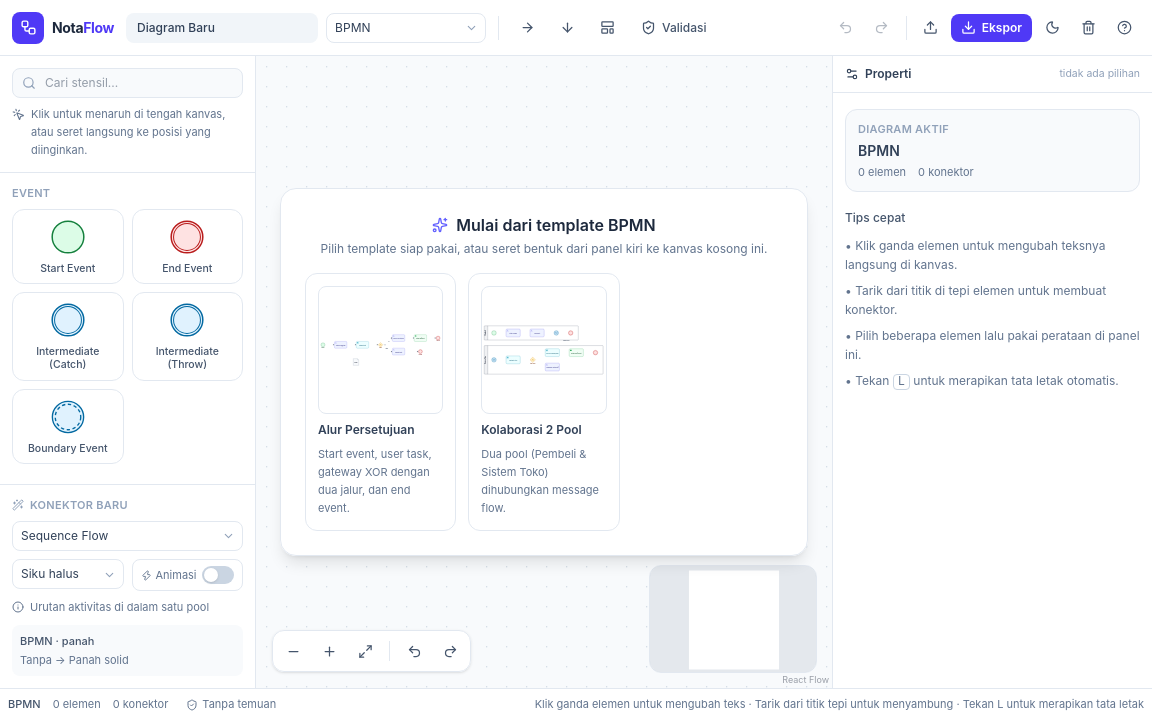
Test: aplikasi Nota Flow › membuka dialog panduan
Click the button titled "Panduan & pintasan". click: x=1124, y=28
box: [1108, 12, 1140, 44]
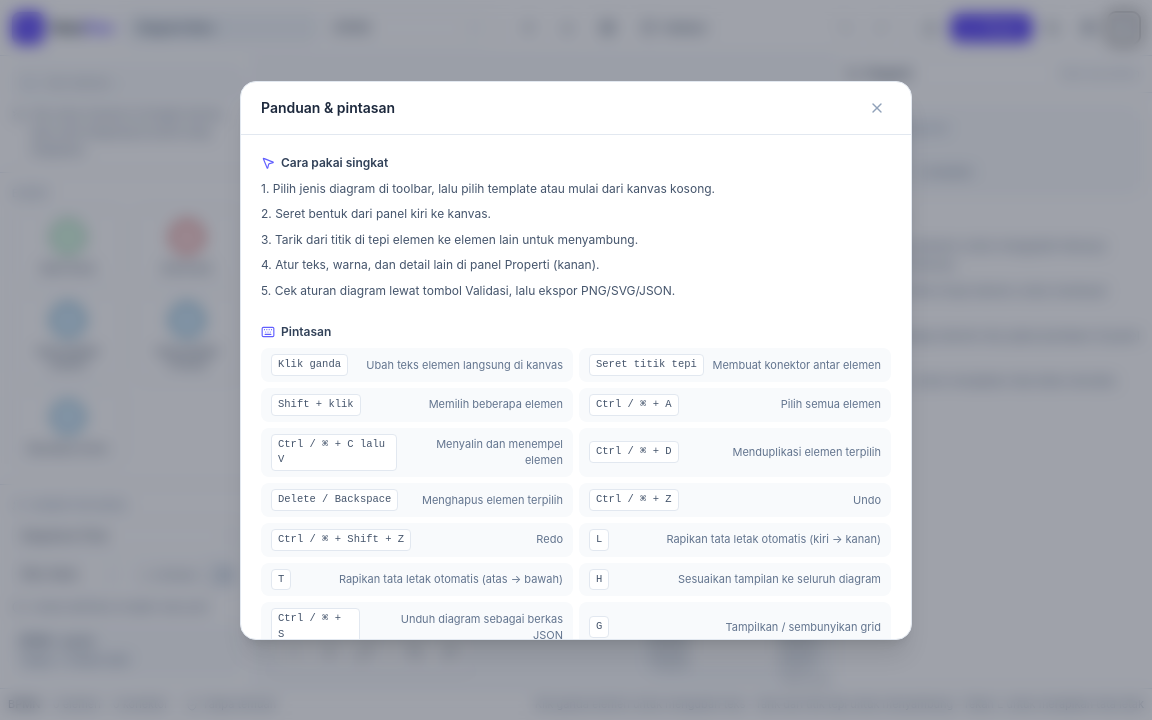
Result: the heading "Pintasan" is shown at [261, 324, 331, 339]
Result: the heading "Cara pakai singkat" is shown at [261, 154, 388, 170]
